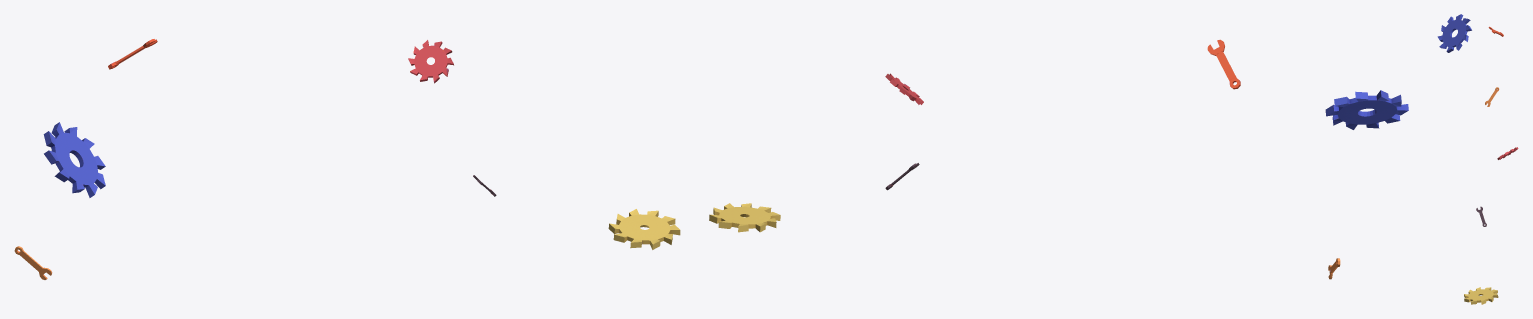
The model's file is SkyAssets.FBX.
3 renders of one model, left to right at view 1: azimuth 30°, elevation 25°; view 2: azimuth 150°, elevation 25°; view 3: azimuth 270°, elevation 25°, orthographic. The views are drawn at different scales.
Visible parts, largest first — view 1: SkyAssets; view 2: SkyAssets; view 3: SkyAssets.
Part boxes in pixels (<box>): SkyAssets: <box>14,39,680,279</box>; SkyAssets: <box>709,39,1408,279</box>; SkyAssets: <box>1437,14,1518,304</box>.
Bounding box in the file's own units: 12826 × 2734 × 5728.
1 material, 1 textured.
